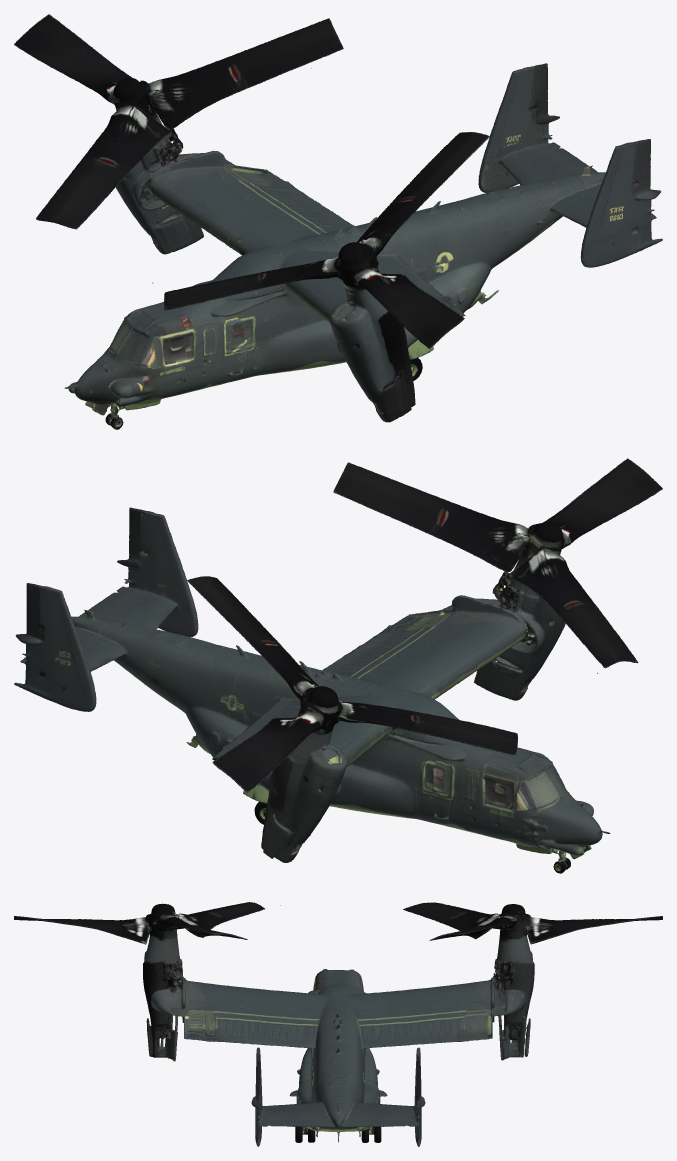
Rendered from Meshy_AI_Osprey_0405140308_texture.glb.
The picture shows the model from 3 angles, top to bottom: view 1: azimuth 30°, elevation 25°; view 2: azimuth 150°, elevation 25°; view 3: azimuth 270°, elevation 25°; orthographic projection. The views are drawn at different scales.
Size of the model in its own units: 1.44 by 0.7043 by 1.9.
Materials: 1 (1 with a texture image).
